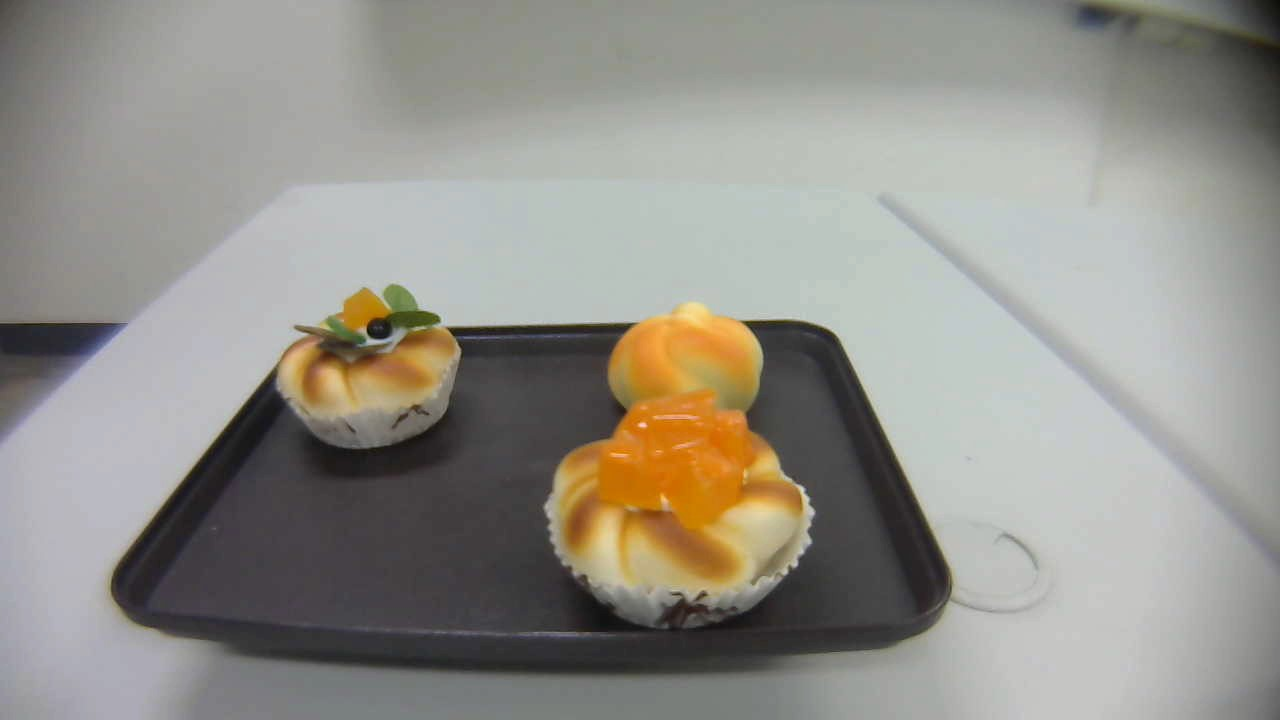fruit tart: (276, 282, 462, 448)
mango tart: (544, 389, 817, 631)
twist bread: (608, 301, 764, 416)
